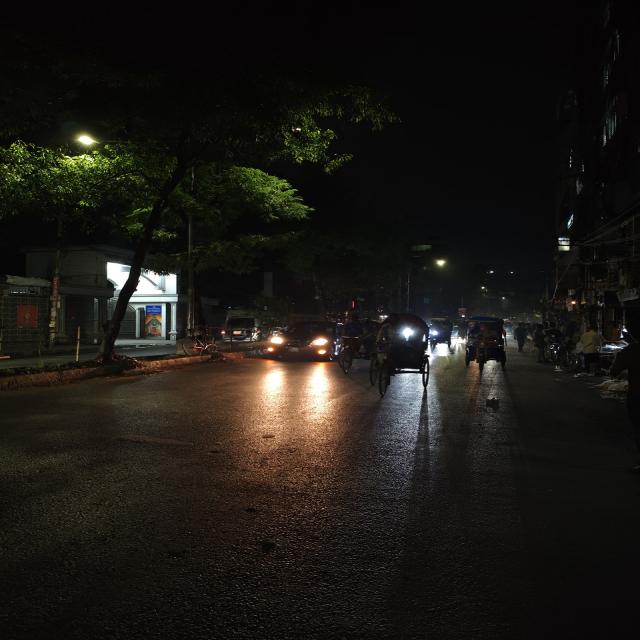bicycle: (175, 327, 228, 365)
car: (264, 316, 338, 362)
pedestrian: (572, 322, 604, 378), (531, 321, 557, 364), (512, 321, 530, 353)
rickshaw: (366, 308, 436, 394), (461, 317, 511, 375), (334, 311, 378, 373), (427, 315, 458, 353)
